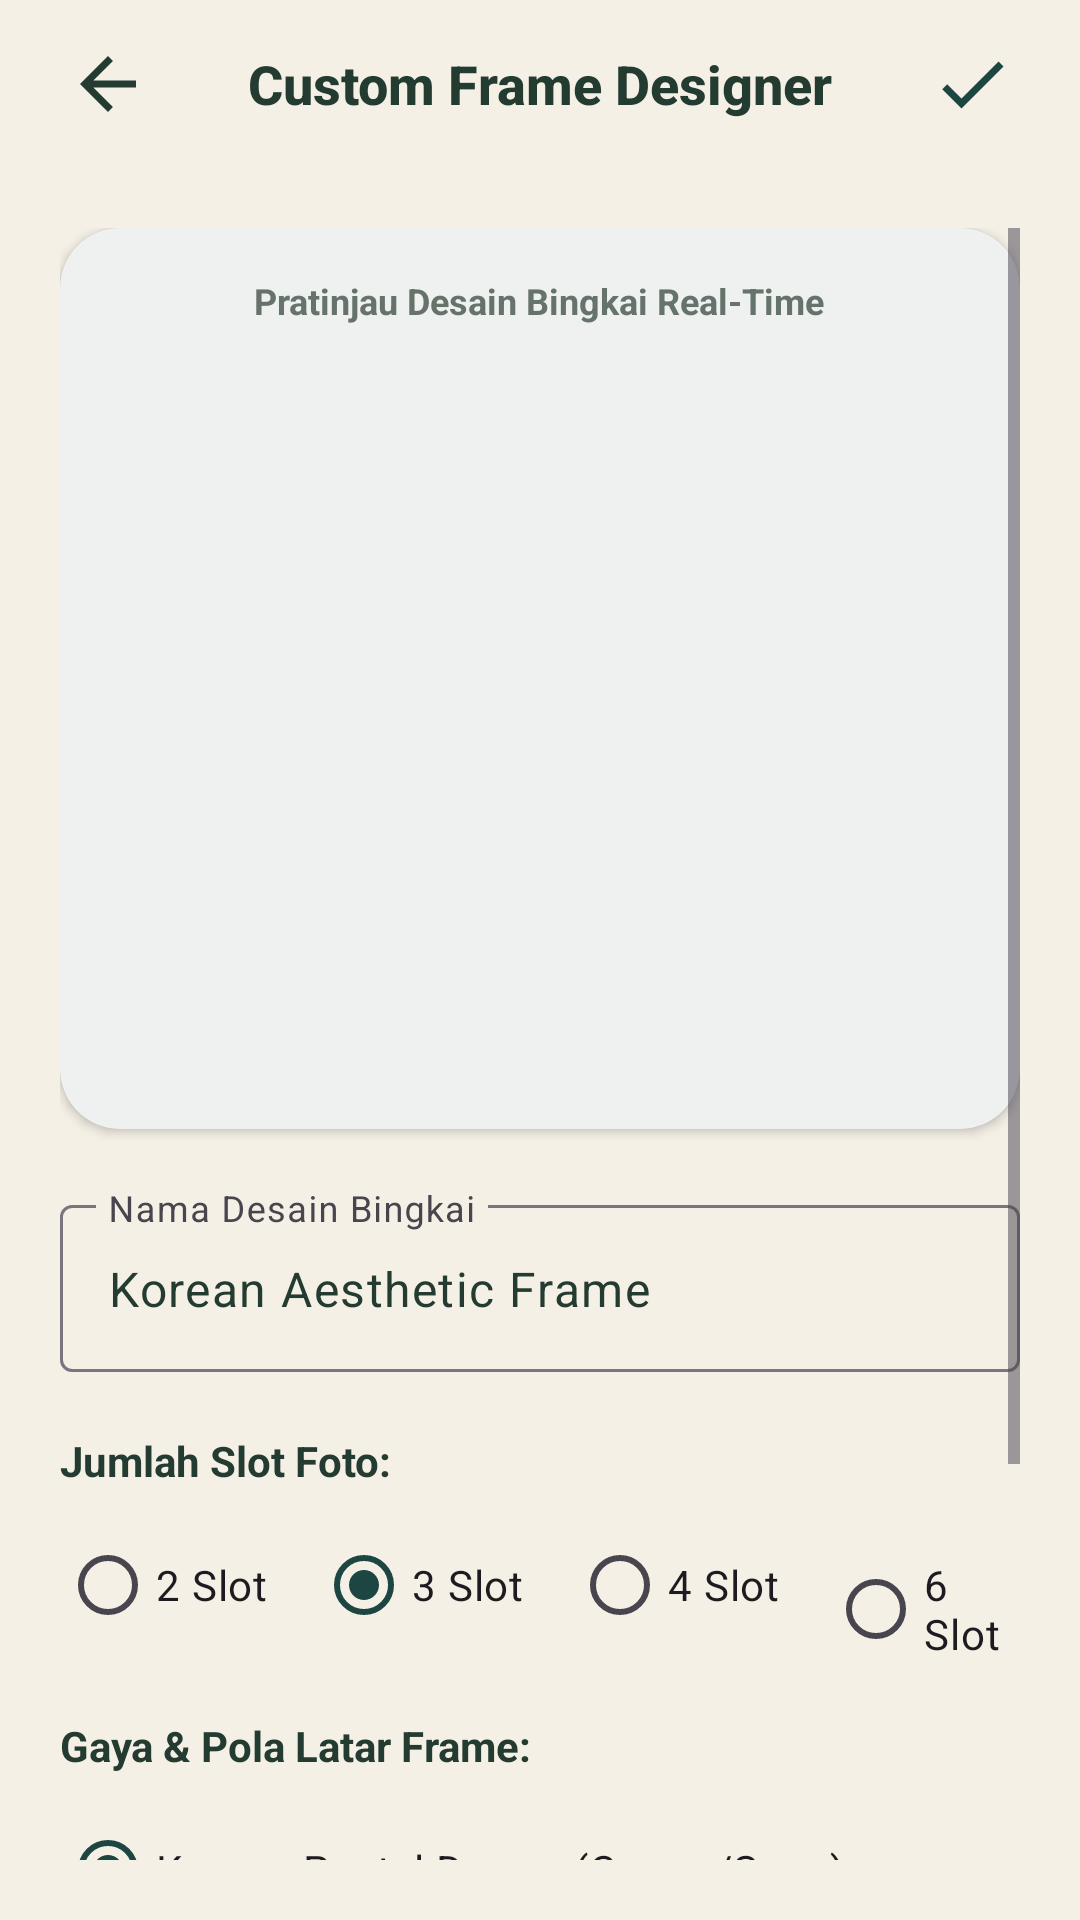

Icon bounding boxes for this 1080px×1920px phone screenshot, format (x1, y1, x2, y2):
Kembali: (80, 56, 136, 112)
Simpan: (942, 61, 1004, 109)
